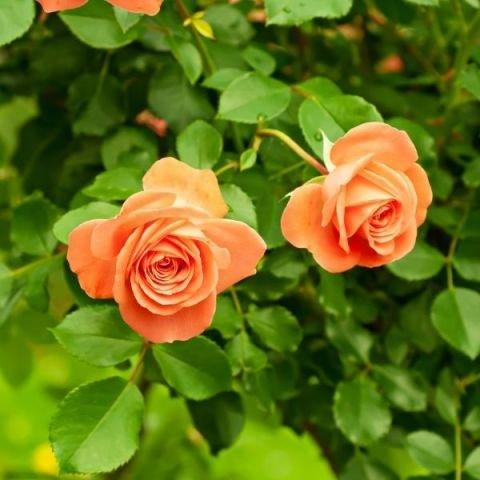Rose: (63, 161, 269, 343), (275, 113, 436, 281)
